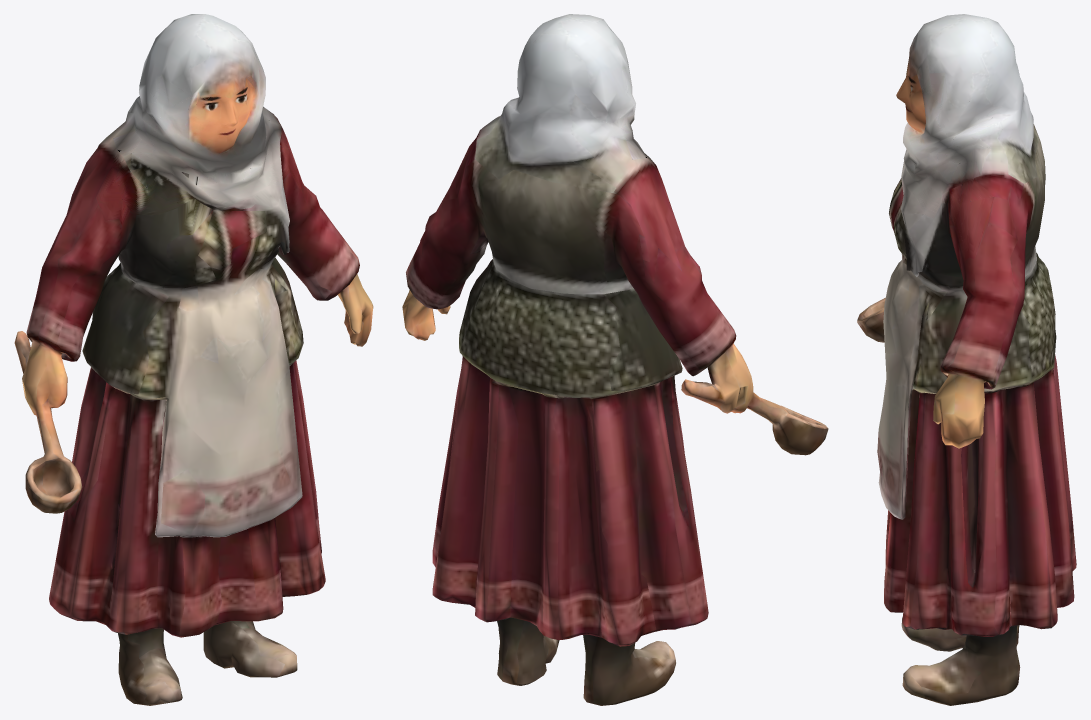
File: cook.gen.phone.glb
3 renders of one model, left to right at view 1: azimuth 30°, elevation 25°; view 2: azimuth 150°, elevation 25°; view 3: azimuth 270°, elevation 25°, orthographic.
Parts seen in each view (by area): view 1: cook.raw; view 2: cook.raw; view 3: cook.raw.
Part boxes in pixels (box(x1,y1,x2,y2)): cook.raw: box(14, 14, 373, 705); cook.raw: box(402, 14, 828, 705); cook.raw: box(857, 14, 1076, 705).
Bounding box in the file's own units: 1.06 × 1.75 × 0.5322.
Materials: 1 (1 with a texture image).
